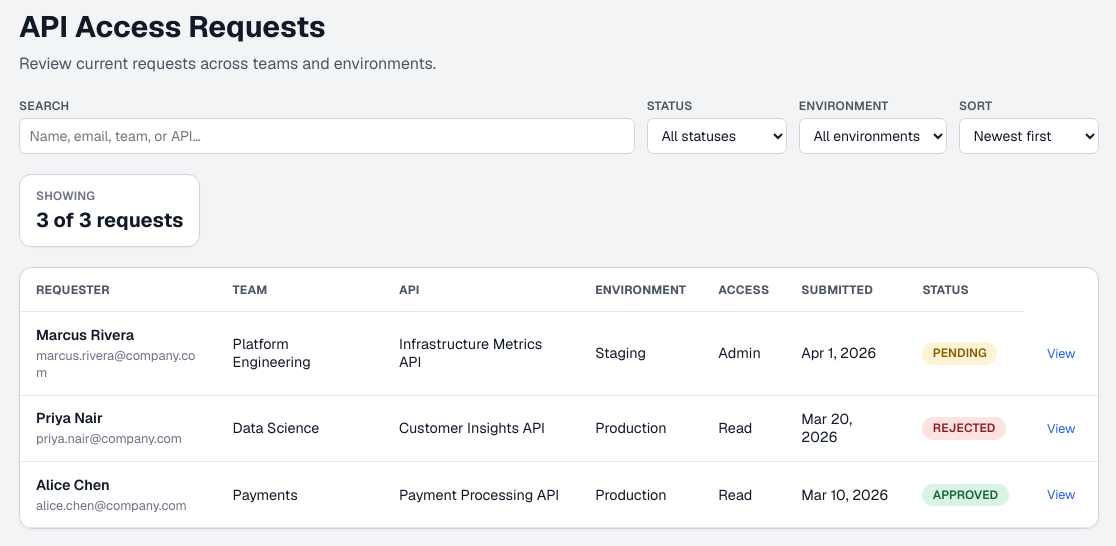
RequestsDashboard search and filtering › filters the list by search query
The image size is (1116, 546).
Type "Marcus" into the search field labelled "Search". click: coordinates (327, 136)
box: [19,118,635,154]
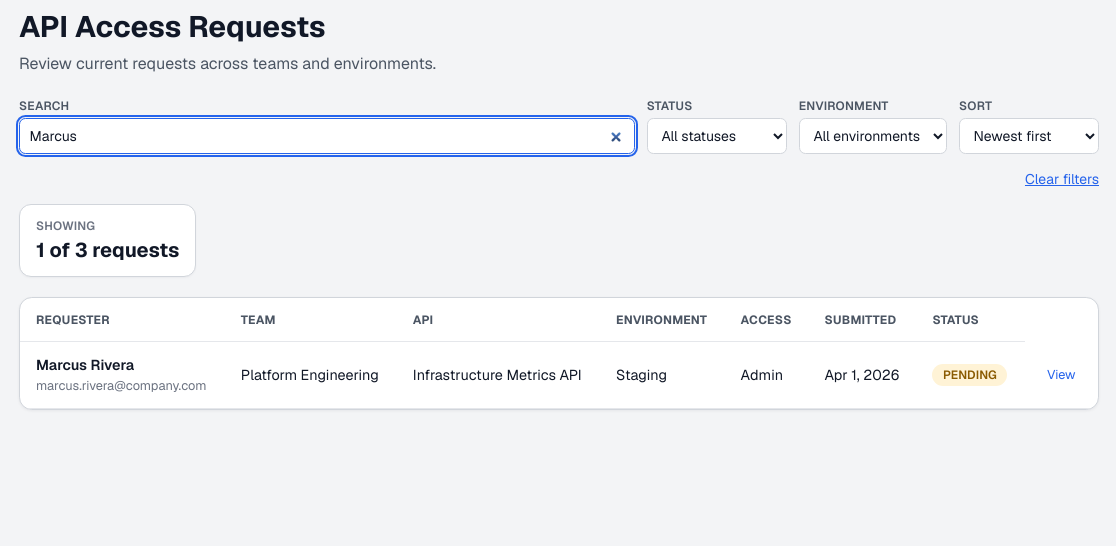
Expected: the text "Marcus Rivera" is shown, [36,356,134,374]
Now the text "Alice Chen" is gone
Now the text "Priya Nair" is gone
